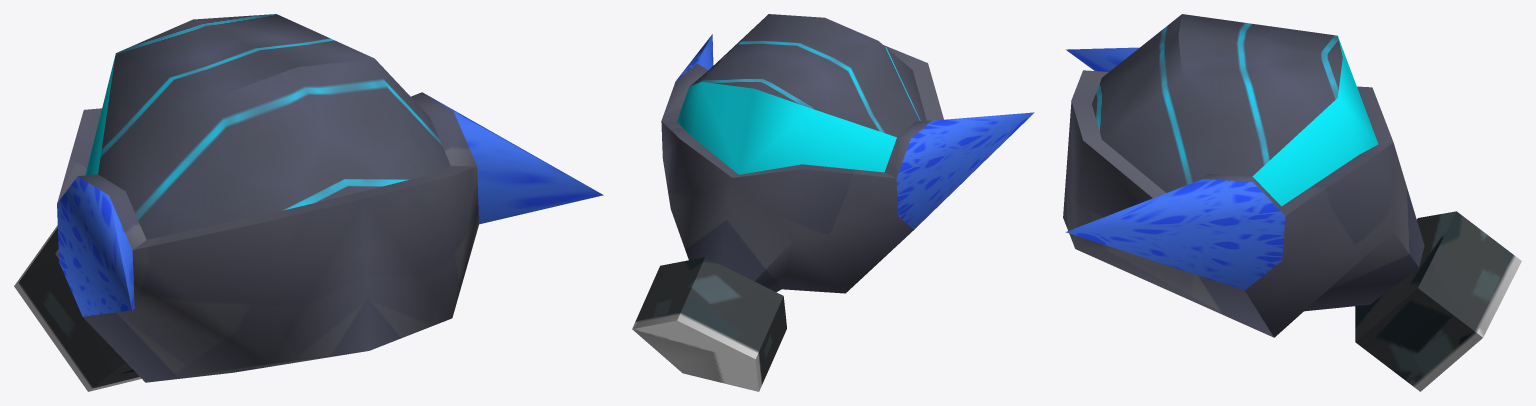
Rendered from Gas Head.fbx.
The picture shows the model from 3 angles, left to right: view 1: azimuth 30°, elevation 25°; view 2: azimuth 150°, elevation 25°; view 3: azimuth 270°, elevation 25°; orthographic projection. The views are drawn at different scales.
Parts seen in each view (by area): view 1: Gas Head; view 2: Gas Head; view 3: Gas Head.
Part boxes in pixels (box(x1,y1,x2,y2)): Gas Head: box(14, 14, 603, 391); Gas Head: box(632, 14, 1034, 391); Gas Head: box(1063, 14, 1521, 391).
Bounding box in the file's own units: 190 × 162 × 202.
